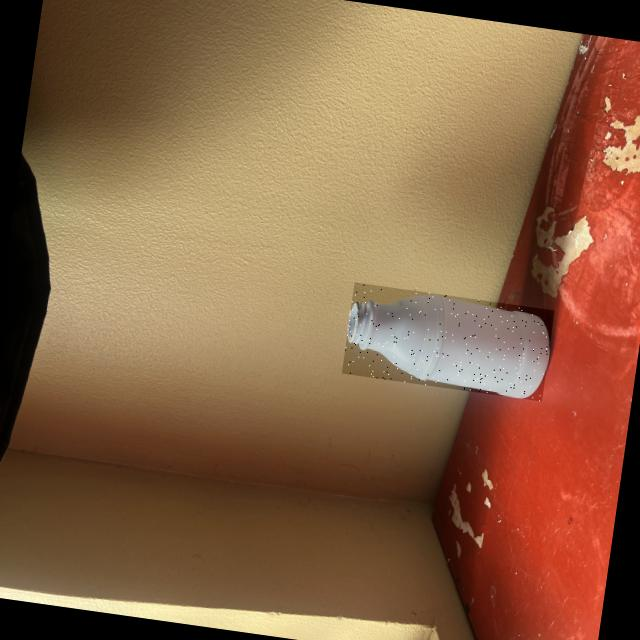HDPE_Bottle: (348, 295, 549, 398)
